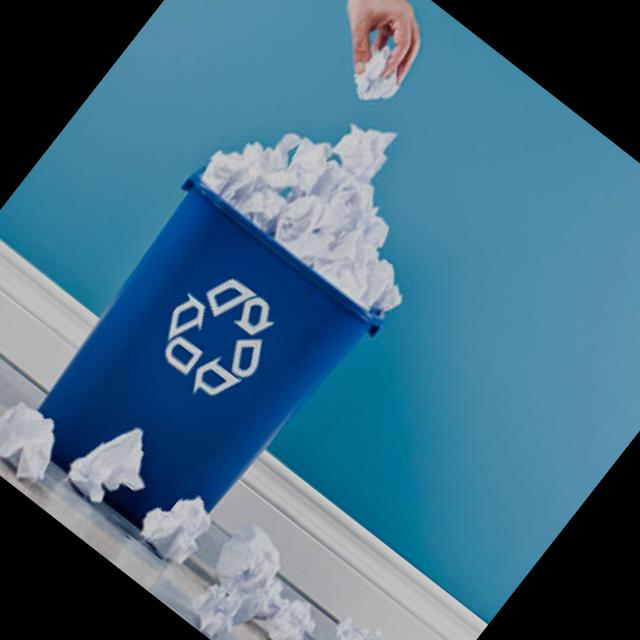KertasBekas: (0, 46, 484, 575), (192, 49, 482, 326)
